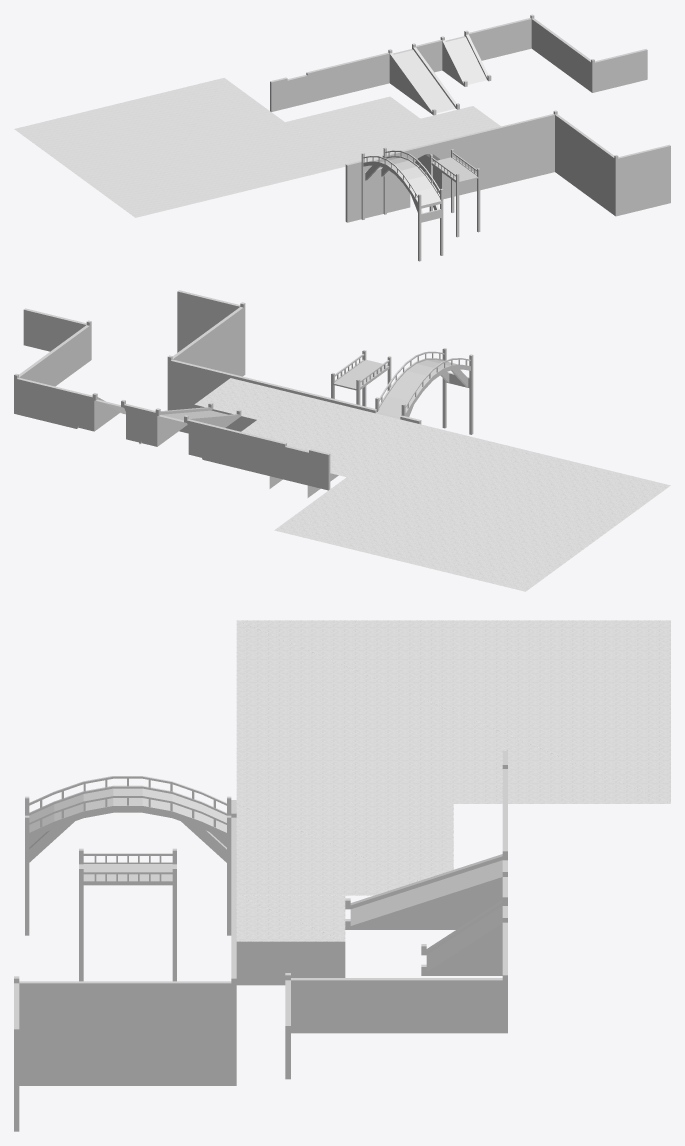
The model's file is mod_walkwaysAndWalls.fbx.
The picture shows the model from 3 angles, top to bottom: view 1: azimuth 30°, elevation 25°; view 2: azimuth 150°, elevation 25°; view 3: azimuth 270°, elevation 25°; orthographic projection. The views are drawn at different scales.
Parts seen in each view (by area): view 1: ground_4x4, ground_2x2, wall_cornerOuter_10x10, wall_cornerInner_10x10, Bridge_Long, ramp_long_10x5, wall_cornerOuter_10x5, wall_cornerInner_10x5, wall_10x10, ramp_short_10x5, wall_10x10_opening, wall_10x5 (+4 smaller); view 2: ground_4x4, ground_2x2, wall_cornerOuter_10x10, Bridge_Long, wall_cornerOuter_10x5, wall_cornerInner_10x5, wall_cornerInner_10x10, ramp_long_10x5, wall_10x5_opening, wall_10x5, ground_1x1, ramp_short_10x5 (+2 smaller); view 3: ground_4x4, ground_2x2, wall_cornerOuter_10x10, wall_cornerInner_10x10, Bridge_Long, ramp_long_10x5, wall_cornerOuter_10x5, wall_cornerInner_10x5, ground_1x1, sewer_tunnel, ramp_short_10x5, Bridge_Short.
Boxes of the visible parts, x1,y1,x2,y2 form: ground_4x4: (14, 78, 345, 217); ground_2x2: (285, 96, 448, 166); wall_cornerOuter_10x10: (584, 135, 670, 216); wall_cornerInner_10x10: (504, 110, 585, 192); Bridge_Long: (361, 147, 443, 261); ramp_long_10x5: (375, 43, 459, 115); wall_cornerOuter_10x5: (560, 39, 647, 92); wall_cornerInner_10x5: (480, 14, 562, 69); wall_10x10: (451, 126, 504, 196); ramp_short_10x5: (428, 30, 491, 86); wall_10x10_opening: (345, 152, 399, 222); wall_10x5: (323, 56, 376, 99); ground_4x4: (274, 424, 670, 591); ground_2x2: (241, 393, 418, 476); wall_cornerOuter_10x10: (177, 290, 245, 376); Bridge_Long: (375, 348, 473, 434); wall_cornerOuter_10x5: (23, 308, 91, 386); wall_cornerInner_10x5: (14, 351, 78, 428); wall_cornerInner_10x10: (167, 333, 231, 433); ramp_long_10x5: (139, 402, 241, 458); wall_10x5_opening: (265, 438, 330, 490); wall_10x5: (202, 423, 266, 474); ground_1x1: (194, 378, 292, 419); ramp_short_10x5: (77, 392, 141, 443); ground_4x4: (236, 620, 670, 803); ground_2x2: (236, 804, 453, 895); wall_cornerOuter_10x10: (14, 976, 127, 1131); wall_cornerInner_10x10: (128, 937, 236, 1085); Bridge_Long: (25, 776, 231, 935); ramp_long_10x5: (345, 842, 507, 929); wall_cornerOuter_10x5: (285, 973, 399, 1079); wall_cornerInner_10x5: (399, 934, 507, 1033); ground_1x1: (236, 895, 345, 941); sewer_tunnel: (236, 941, 345, 985); ramp_short_10x5: (421, 888, 507, 975); Bridge_Short: (79, 848, 176, 981).
Size of the model in its own units: 100 by 15.95 by 60.5.
